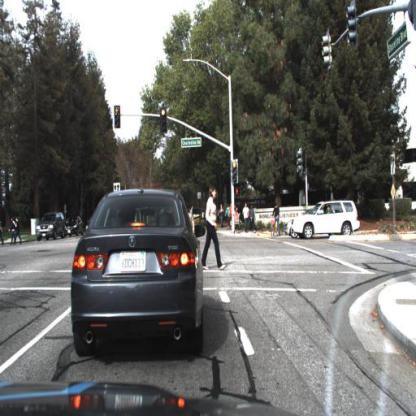biker: (270, 202, 282, 240), (206, 206, 220, 237)
car: (70, 185, 208, 360), (290, 199, 363, 241), (35, 209, 67, 243), (64, 215, 85, 236)
pedestrian: (201, 182, 226, 275), (201, 185, 226, 273), (242, 200, 249, 234), (249, 203, 257, 232), (10, 217, 17, 248), (218, 203, 226, 230), (16, 217, 22, 247), (9, 217, 15, 244)
trafficLight-Red: (159, 105, 168, 135), (231, 159, 241, 185)
trafficLight-RedLeft: (113, 103, 122, 130)
